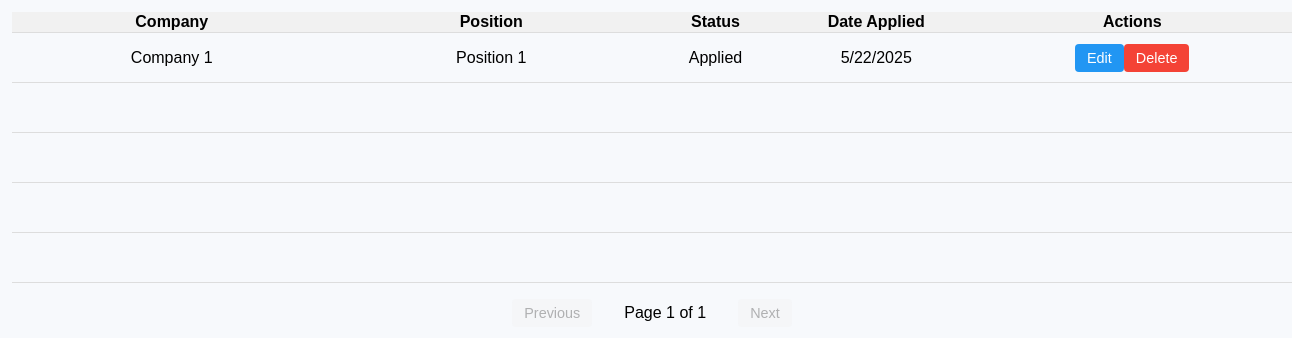
JobTable interactions › clicking edit puts row into edit mode
Step 1. Click the button "Edit" → (1099, 58), box left=1075, top=44, right=1124, bottom=72
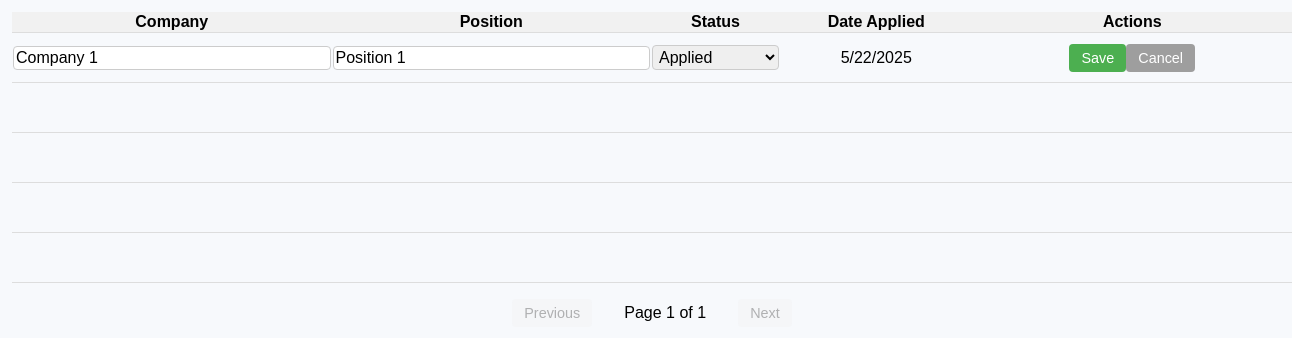
Expected: the 1st field showing "Company 1" is shown, left=13, top=46, right=330, bottom=70
Expected: the 2nd field showing "Position 1" is shown, left=332, top=46, right=650, bottom=70
